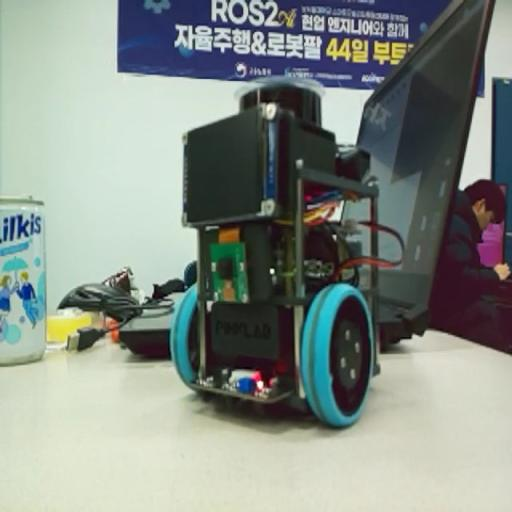pinky_63: (169, 76, 378, 437)
